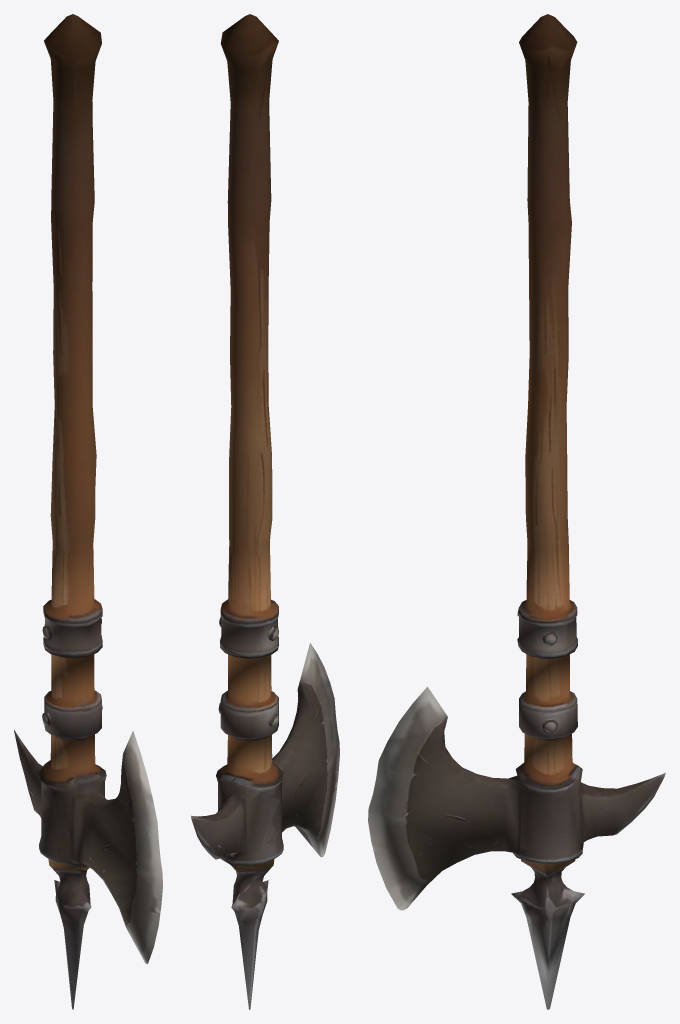
The model's file is halberd.glb.
3 views of the same model, side by side, from view 1: azimuth 30°, elevation 25°; view 2: azimuth 150°, elevation 25°; view 3: azimuth 270°, elevation 25° (orthographic).
Visible parts, largest first — view 1: tripo_node_33e6043b-9741-4bc8-a876-29448284b48b; view 2: tripo_node_33e6043b-9741-4bc8-a876-29448284b48b; view 3: tripo_node_33e6043b-9741-4bc8-a876-29448284b48b.
Boxes of the visible parts, x1=… form: tripo_node_33e6043b-9741-4bc8-a876-29448284b48b: x1=14, y1=14, x2=162, y2=1009; tripo_node_33e6043b-9741-4bc8-a876-29448284b48b: x1=191, y1=14, x2=339, y2=1009; tripo_node_33e6043b-9741-4bc8-a876-29448284b48b: x1=368, y1=14, x2=665, y2=1009.
Bounding box in the file's own units: 0.1527 × 2.5 × 0.6778.
Materials: 1 (1 with a texture image).
